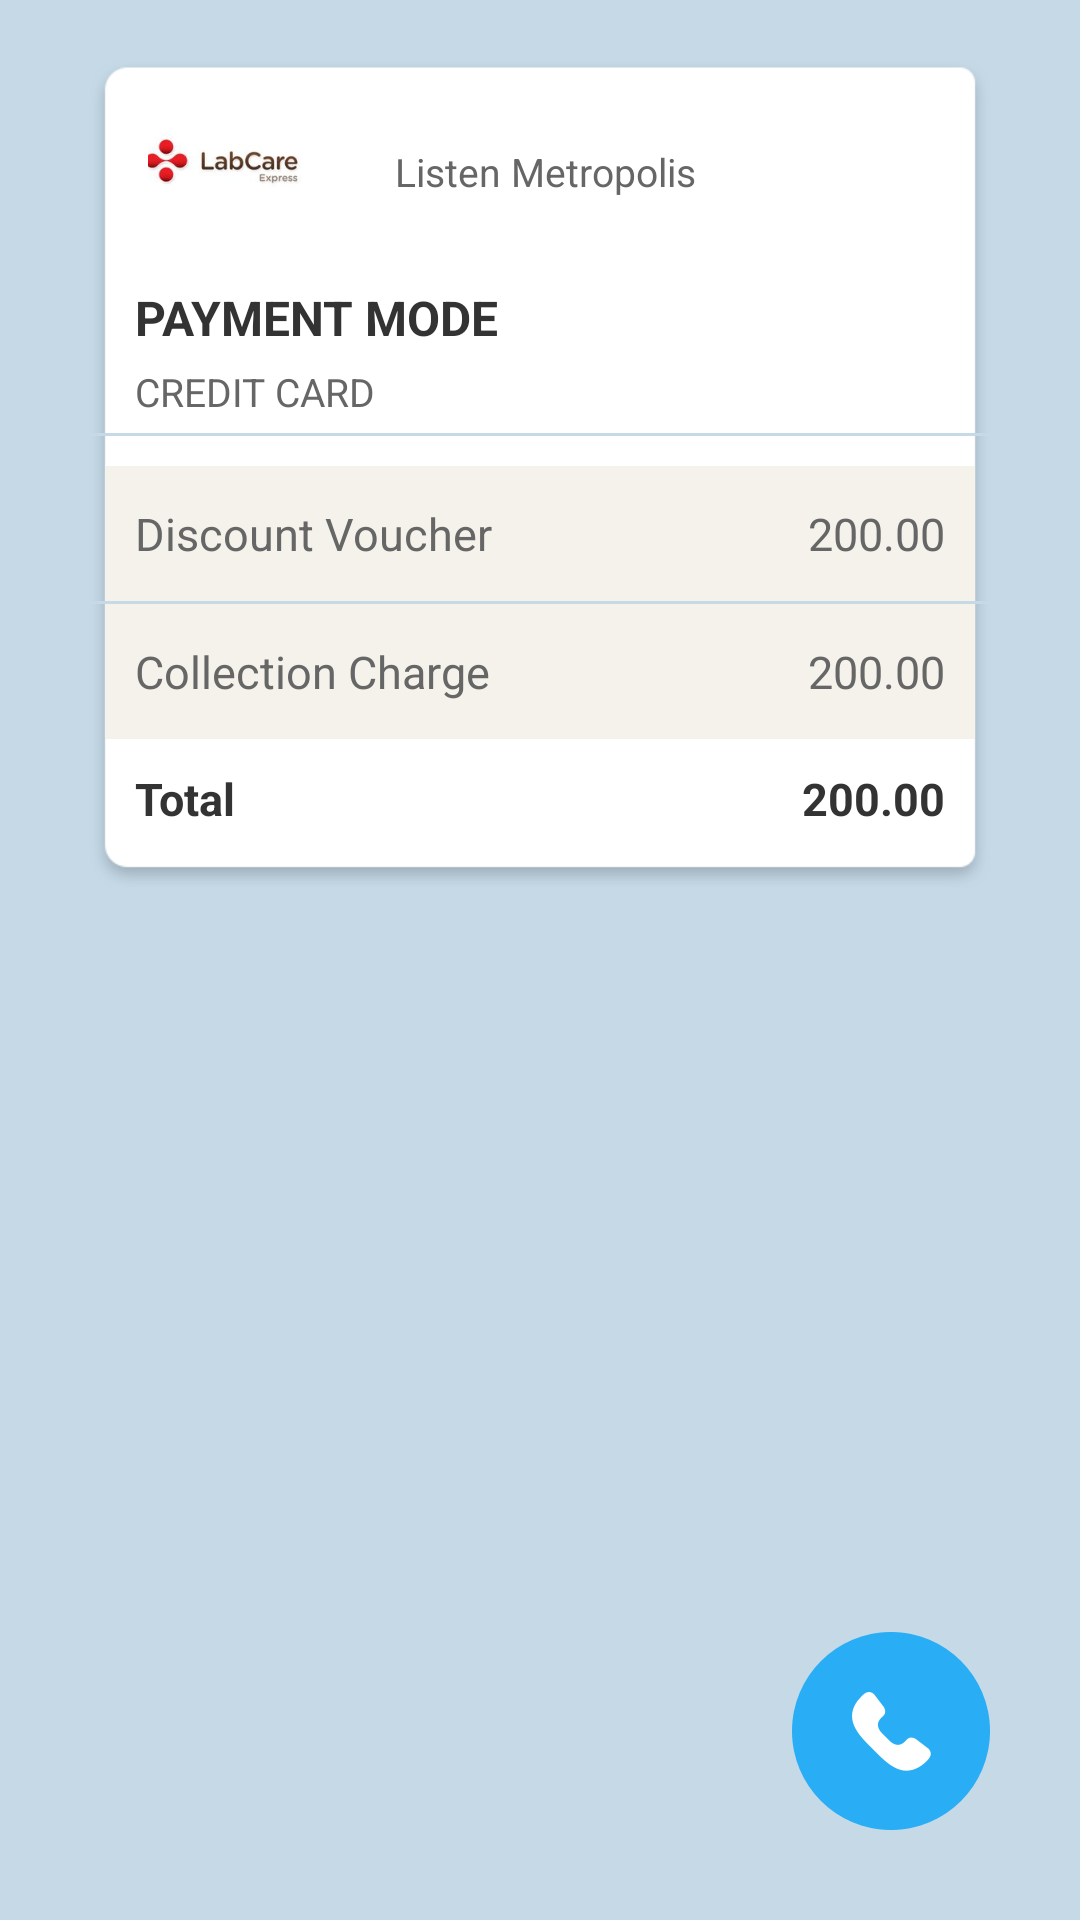

Point at icon controls on the screen. Image size 1080w x 1920h, points as point (x, y).
callround: point (891, 1731)
